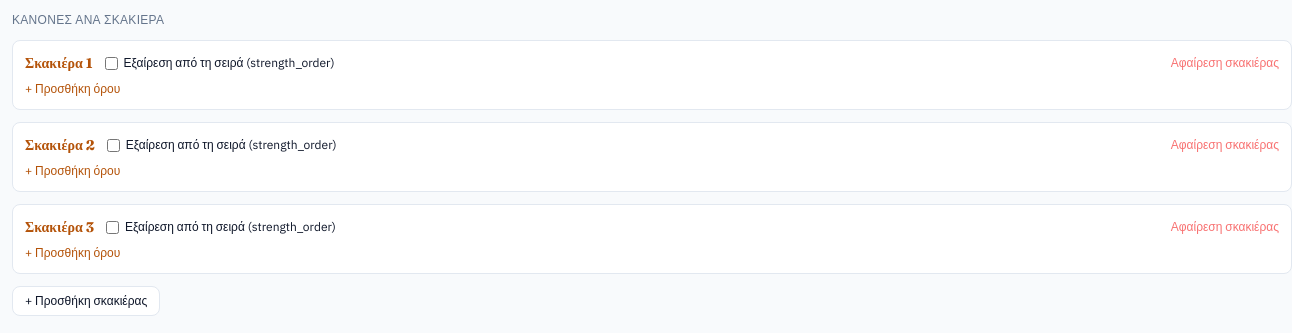
Test: RosterRulesBuilder — ο αριθμός σκακιέρας δεν είναι πια επεξεργάσιμος (επιβεβαιωμένο) › αφαίρεση μιας σκακιέρας από τη μέση μετονομάζει αυτόματα τις επόμενες
This screenshot has width=1292, height=333.
Click the 1st button "Αφαίρεση σκακιέρας" at (1225, 63), box 1171,55 -> 1279,71
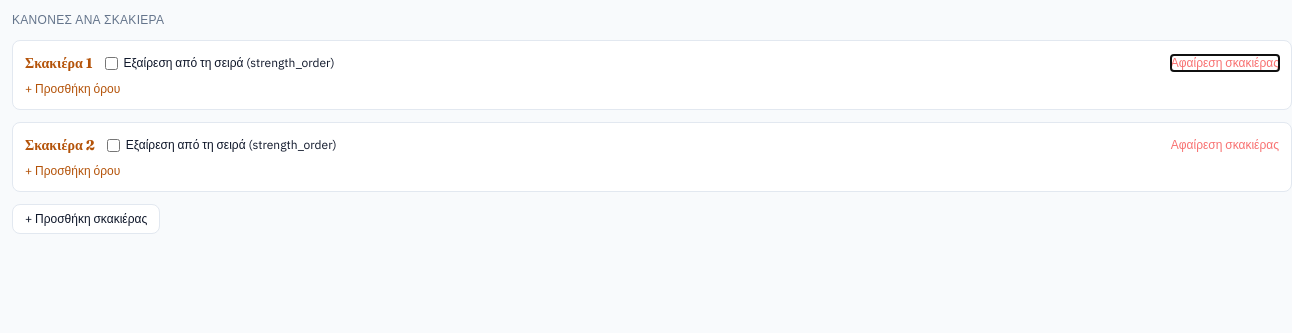
Expected: the text "Σκακιέρα 1" is shown, 25,53 -> 92,73
Expected: the text "Σκακιέρα 3" is gone
